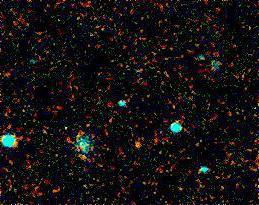star: (122, 129, 152, 159)
